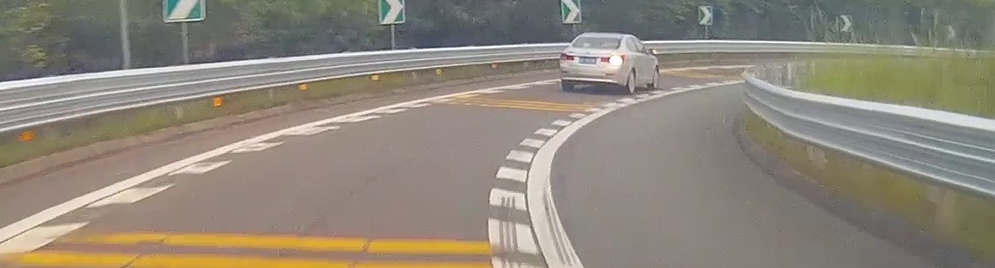L_light: (560, 53, 574, 60)
R_light: (601, 55, 624, 64)
T_light: (588, 44, 598, 48)
day-right: (560, 32, 624, 95)
